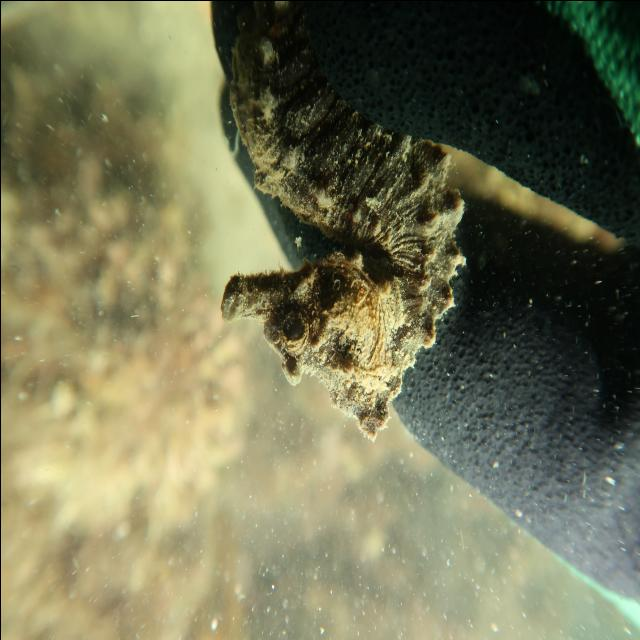Hippo: (212, 241, 404, 445)
